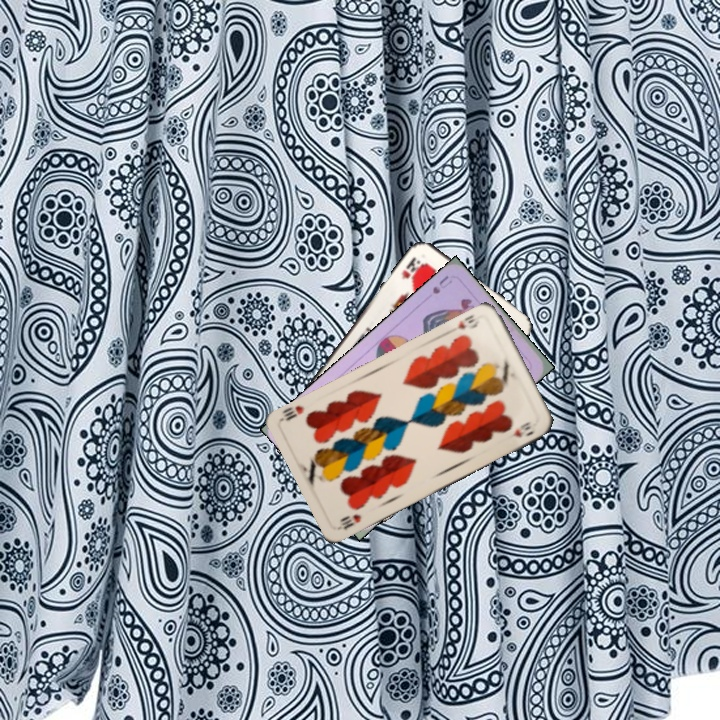H10: (446, 311, 482, 335), (336, 510, 364, 532)
HK: (397, 253, 425, 282)
SU: (428, 271, 455, 297)
